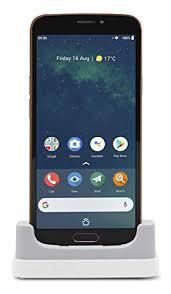Smartphone: (31, 10, 137, 263)
